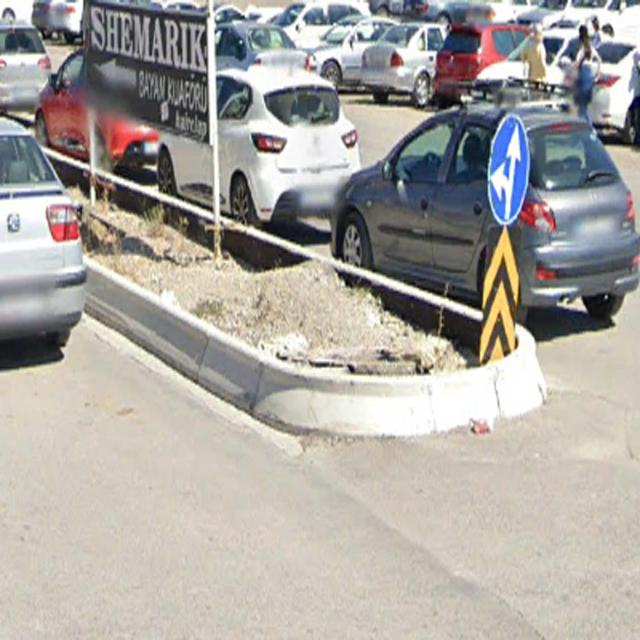ilerisol: (487, 113, 529, 225)
